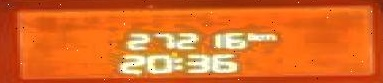0: (144, 53, 169, 74)
1: (207, 30, 220, 49)
2: (112, 51, 144, 74), (172, 30, 199, 49), (123, 30, 150, 49)
3: (180, 52, 207, 73)
6: (207, 52, 237, 73), (220, 30, 245, 47)
7: (150, 30, 171, 49)
X: (169, 55, 180, 71), (245, 30, 258, 40), (258, 33, 274, 40)
